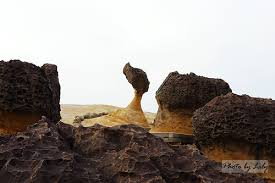yehliu: (119, 60, 154, 96)
